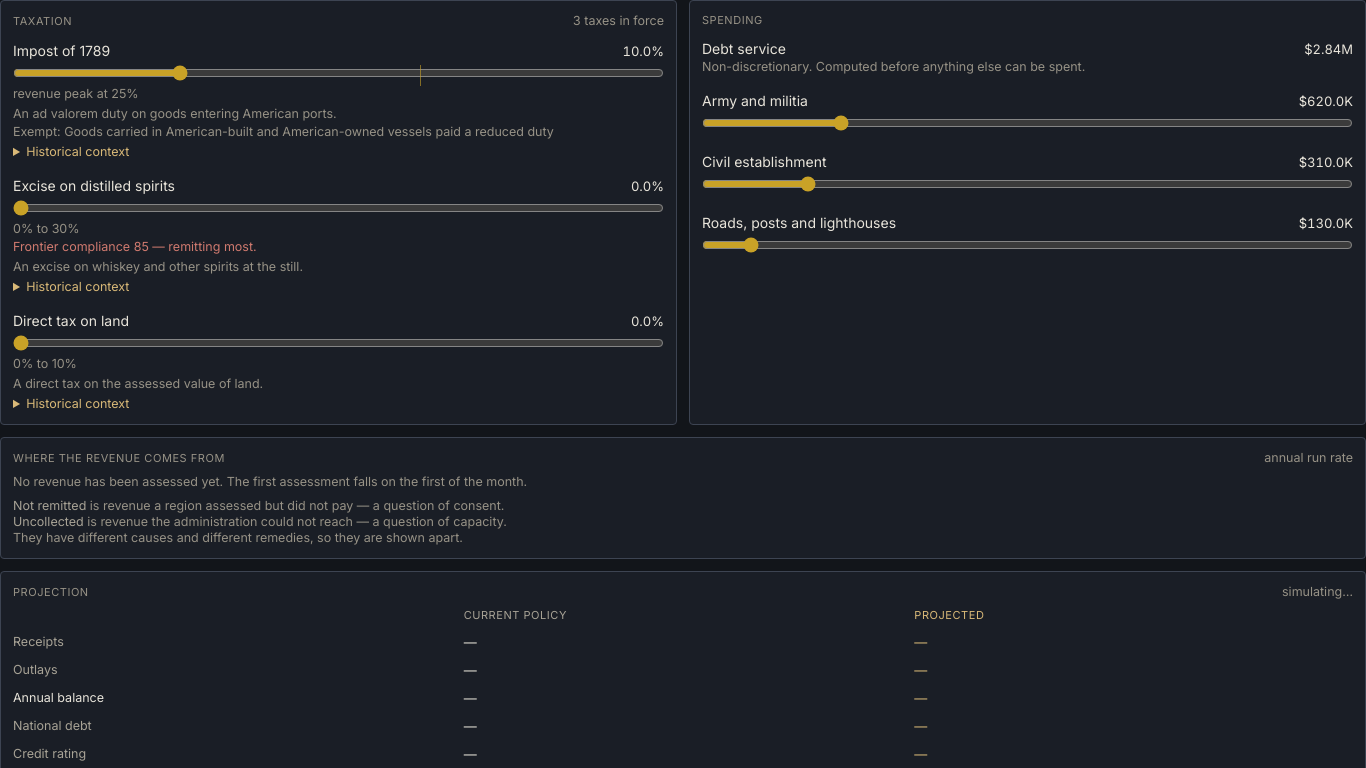
the political capital gate on enacting a budget › enables Enact once the reserve covers it
Set the slider labelled "Impost of 1789" to "0.35" at (577, 73), box x1=13 y1=65 x2=664 y2=81
(page scrolled)
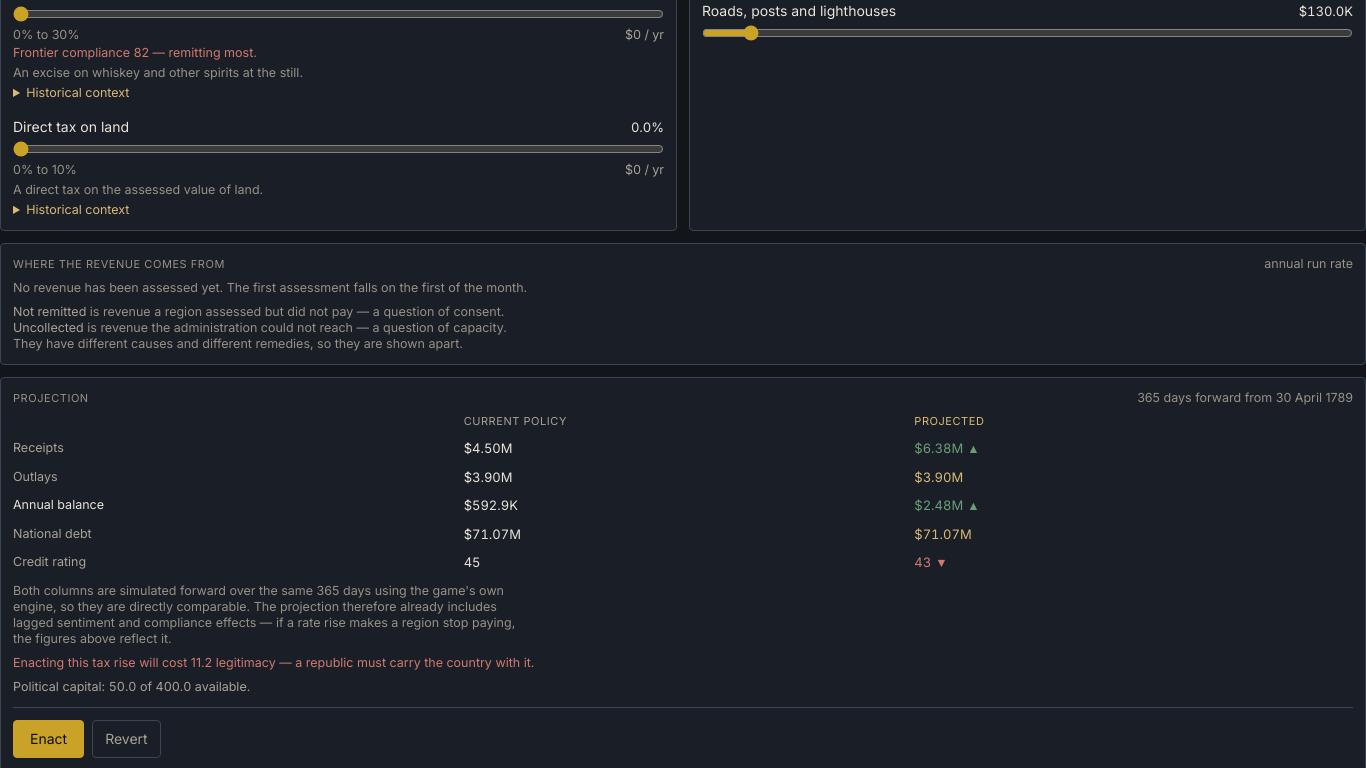
Now the button "Enact" is enabled, box x1=13 y1=720 x2=84 y2=758
